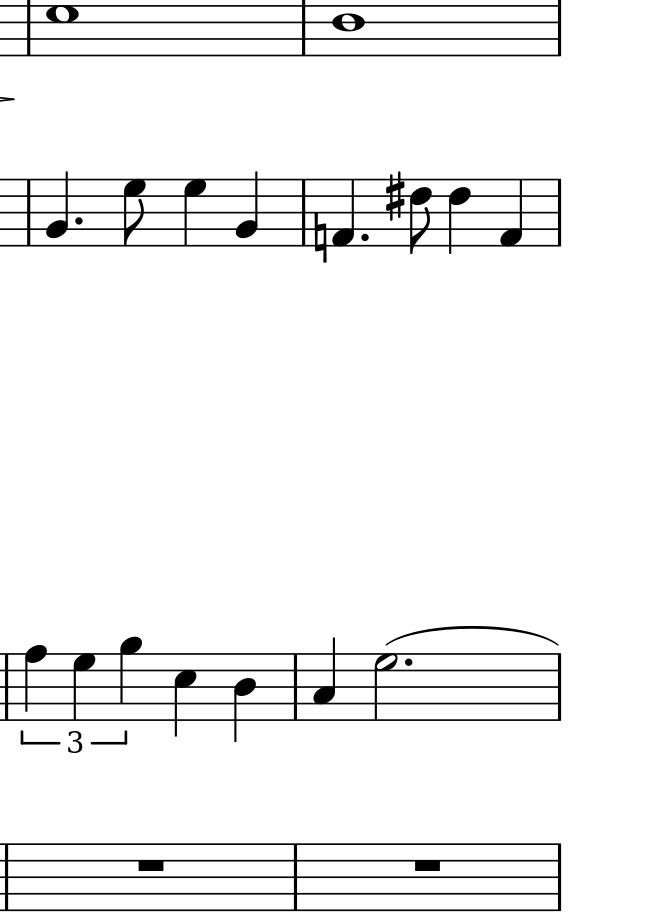2_7: (372, 651, 398, 722)
4_2: (233, 170, 261, 248), (44, 171, 70, 248)
4_3: (312, 638, 337, 721)
4_4: (233, 652, 257, 742)
4_5: (172, 653, 199, 738)
4_6: (448, 177, 471, 256)
4_7: (71, 652, 97, 721), (182, 178, 208, 246)
4_8: (22, 643, 47, 723)
4_9: (118, 635, 141, 722)
8_1: (498, 176, 525, 249), (332, 176, 358, 249)
8_6: (408, 177, 433, 255)
8_7: (120, 177, 148, 247)
Natural: (312, 210, 328, 265)
Rests1: (135, 856, 167, 873), (412, 857, 443, 873)
Sharp: (383, 170, 406, 223)
Single_barline: (296, 179, 312, 247), (288, 653, 304, 720), (552, 179, 567, 247), (552, 844, 567, 911), (288, 845, 303, 910), (20, 180, 35, 244), (552, 656, 566, 720), (20, 1, 36, 55), (296, 1, 312, 55), (1, 844, 13, 912), (552, 2, 567, 55)
Slur: (383, 625, 560, 647)
dot: (358, 230, 371, 243), (402, 655, 414, 669), (72, 215, 84, 226)
